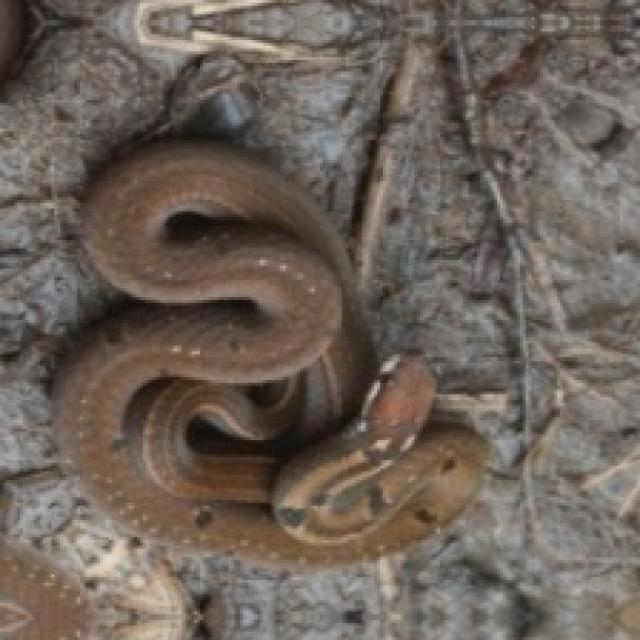philippine stripe-lipped: (54, 140, 486, 566)
